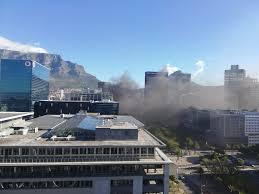smoke: (88, 62, 259, 124)
